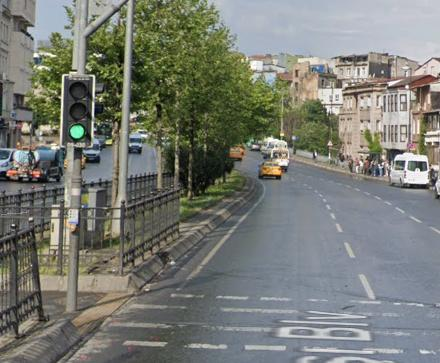greenlight: (58, 76, 91, 150)
